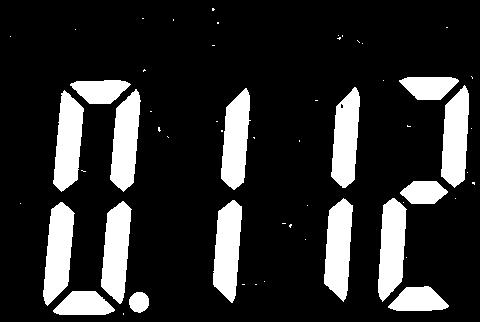0: (40, 79, 140, 318)
1: (321, 86, 363, 303), (212, 90, 251, 301)
2: (377, 73, 471, 312)
dot: (130, 292, 149, 313)
